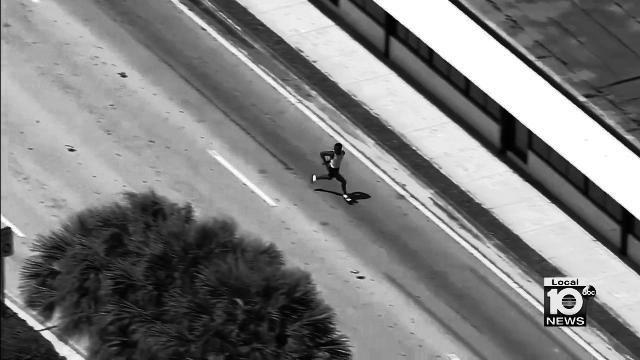berlari: (308, 138, 354, 207)
